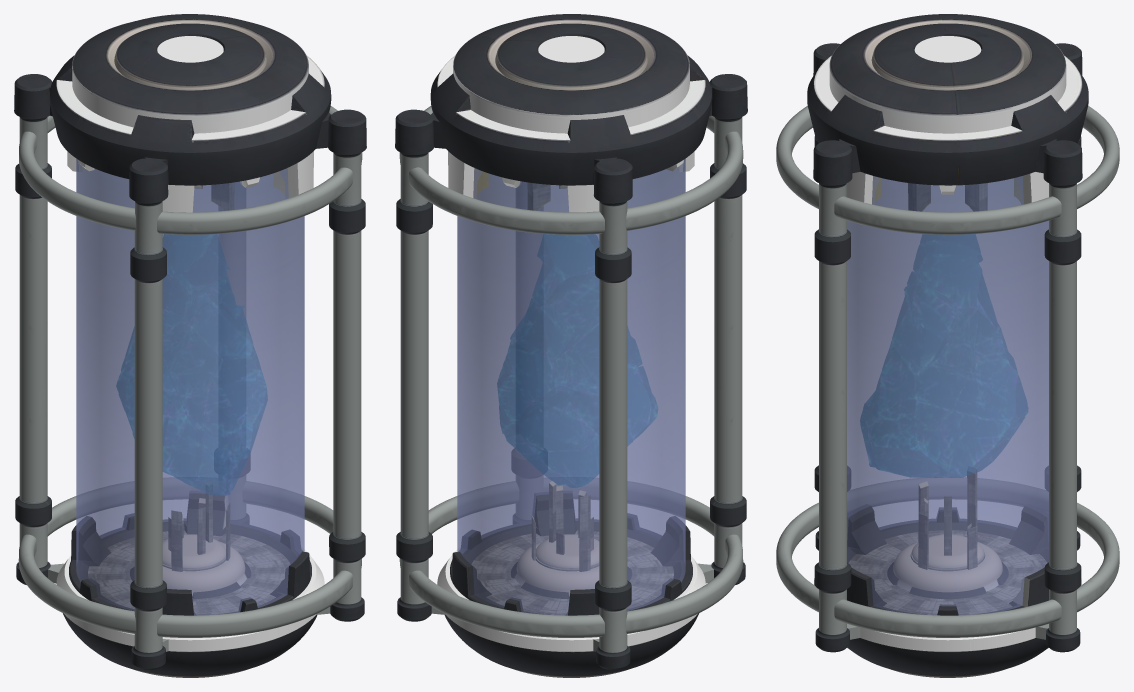
The model's file is Niflheim_Memory_Capsule.glb.
3 views of the same model, side by side, from view 1: azimuth 30°, elevation 25°; view 2: azimuth 150°, elevation 25°; view 3: azimuth 270°, elevation 25° (orthographic).
Parts seen in each view (by area): view 1: A_CapsuleSealed_LOD0, A_Crystal; view 2: A_CapsuleSealed_LOD0, A_Crystal; view 3: A_CapsuleSealed_LOD0, A_Crystal.
Boxes of the visible parts, x1,y1,x2,y2 form: A_CapsuleSealed_LOD0: (14,14,366,677); A_Crystal: (116,234,267,495); A_CapsuleSealed_LOD0: (395,14,747,677); A_Crystal: (497,234,657,487); A_CapsuleSealed_LOD0: (776,14,1119,677); A_Crystal: (860,234,1027,477).
Size of the model in its own units: 0.5905 by 1.15 by 0.5905.
5 materials, 5 textured.
